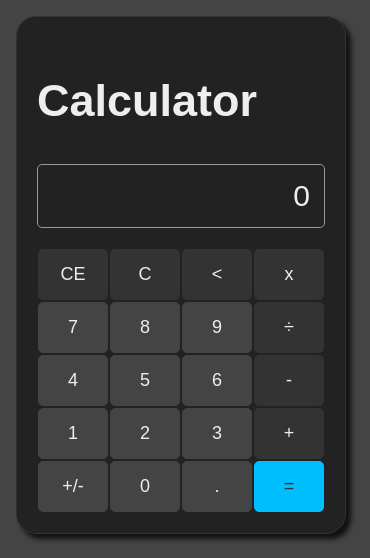
Test: Calculator › should user input after clicking several number
This screenshot has width=370, height=558.
Click the button "1" at (73, 433), box [38,408,108,459]
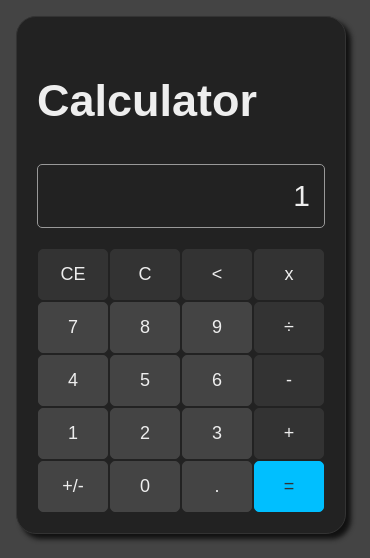
expect the field holds "1": met, box [37,164,325,228]
Click the button "2" at (145, 433), box [110,408,180,459]
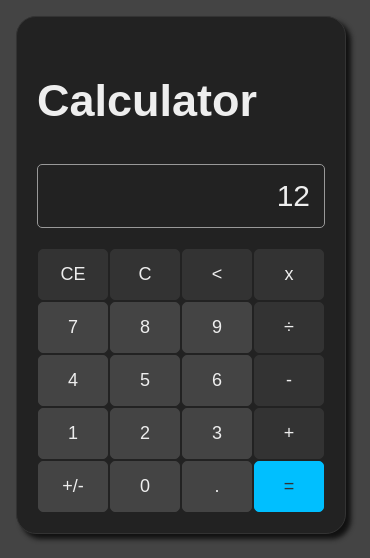
expect the field holds "12": met, box [37,164,325,228]
